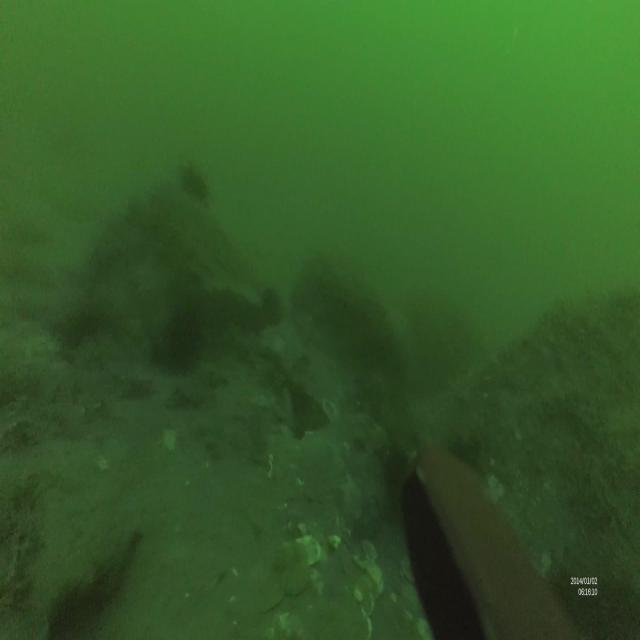echinus: (169, 305, 202, 368), (180, 162, 210, 202), (451, 433, 479, 466), (288, 378, 310, 416), (262, 287, 282, 324)
